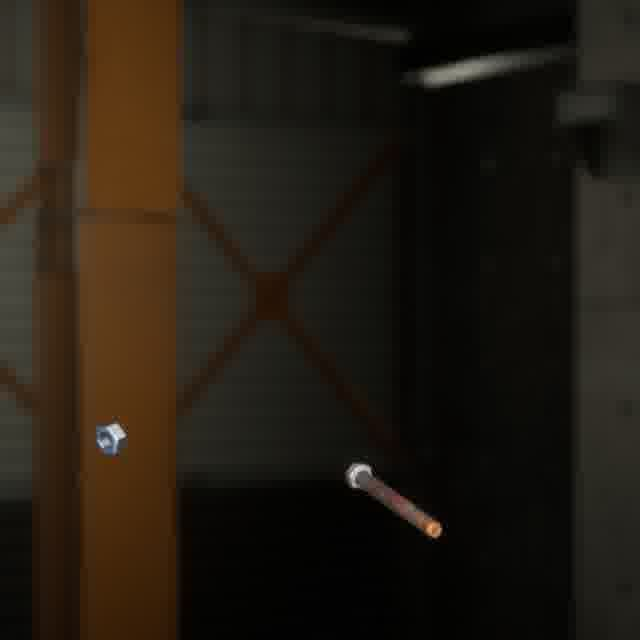bolt: (341, 457, 446, 542)
nut: (89, 418, 130, 459)
